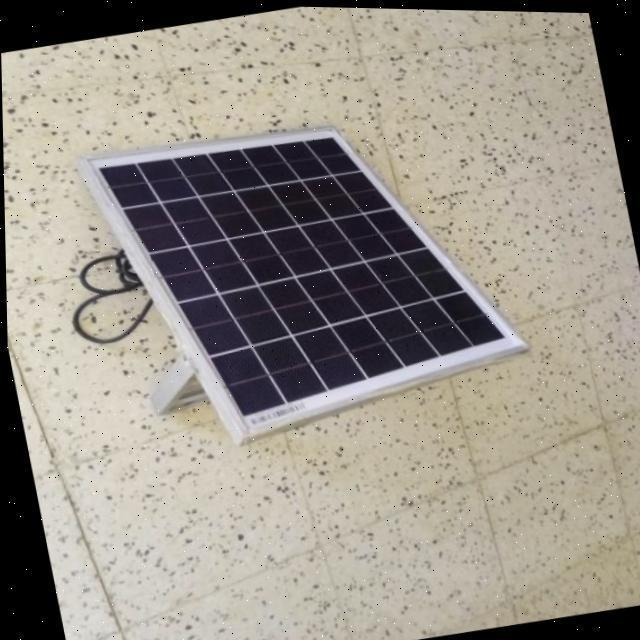Normal Solar Panel: (86, 91, 534, 459)
